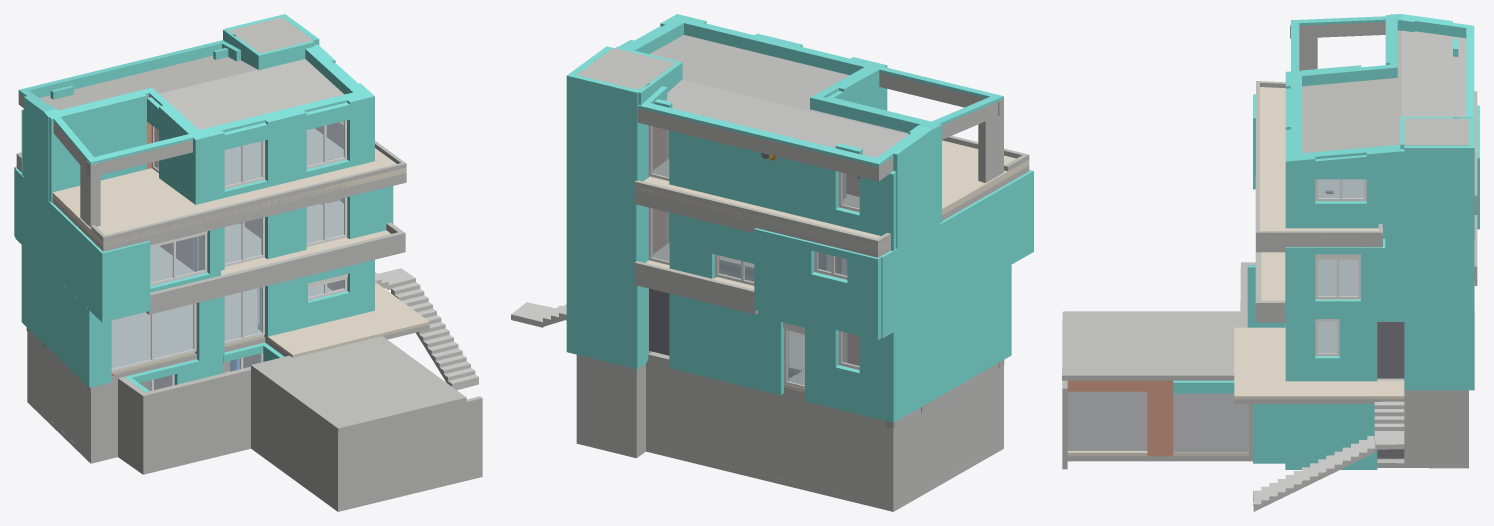
Rendered from HouseEM_AR_ALL.glb.
3 renders of one model, left to right at view 1: azimuth 30°, elevation 25°; view 2: azimuth 150°, elevation 25°; view 3: azimuth 270°, elevation 25°, orthographic. The views are drawn at different scales.
Visible parts, largest first — view 1: BS-RS01, RF-SLAB, BS-RCW01, AT-FF01, GF-FF01, BS-RCW04, RF-PARAPET-CAP02, F1-ET06, BS-RCW02, AT-PP01, F1-PP01, GF-ET12 (+43 smaller); view 2: RF-SLAB, BS-RCW05, F1-ET06, GF-ET12, AT-ET11, GF-ET08, RF-PARAPET-CAP02, AT-ET03, BS-COL07, AT-PP02, GF-ET02, F1-ET14 (+42 smaller); view 3: RF-SLAB, BS-RS01, AT-ET02, GF-FF01, RF-PARAPET-CAP02, GF-ET01, BS-ET01, AT-FF01, BS-GD02, BS-COL07, F1-ET13, BS-GD01 (+37 smaller).
Boxes of the visible parts, bbox=[...] form: BS-RS01: bbox=[251, 336, 466, 433]; RF-SLAB: bbox=[18, 55, 344, 176]; BS-RCW01: bbox=[335, 396, 482, 506]; AT-FF01: bbox=[52, 128, 406, 246]; GF-FF01: bbox=[111, 282, 429, 374]; BS-RCW04: bbox=[146, 366, 250, 468]; RF-PARAPET-CAP02: bbox=[18, 40, 374, 164]; F1-ET06: bbox=[15, 169, 105, 322]; BS-RCW02: bbox=[251, 370, 335, 504]; AT-PP01: bbox=[91, 141, 406, 251]; F1-PP01: bbox=[146, 222, 405, 314]; GF-ET12: bbox=[23, 247, 87, 385]; RF-SLAB: bbox=[637, 35, 1003, 181]; BS-RCW05: bbox=[648, 368, 810, 485]; F1-ET06: bbox=[880, 170, 1033, 337]; GF-ET12: bbox=[897, 267, 1007, 420]; AT-ET11: bbox=[669, 130, 838, 224]; GF-ET08: bbox=[669, 293, 783, 395]; RF-PARAPET-CAP02: bbox=[618, 14, 1003, 166]; AT-ET03: bbox=[572, 74, 635, 196]; BS-COL07: bbox=[576, 354, 648, 452]; AT-PP02: bbox=[634, 180, 890, 257]; GF-ET02: bbox=[572, 262, 633, 368]; F1-ET14: bbox=[566, 180, 632, 276]; RF-SLAB: bbox=[1299, 30, 1466, 153]; BS-RS01: bbox=[1062, 311, 1240, 380]; AT-ET02: bbox=[1404, 146, 1474, 239]; GF-FF01: bbox=[1234, 322, 1404, 399]; RF-PARAPET-CAP02: bbox=[1285, 14, 1474, 163]; GF-ET01: bbox=[1404, 309, 1474, 390]; BS-ET01: bbox=[1285, 404, 1377, 469]; AT-FF01: bbox=[1256, 87, 1382, 241]; BS-GD02: bbox=[1067, 391, 1147, 450]; BS-COL07: bbox=[1404, 390, 1468, 463]; F1-ET13: bbox=[1405, 240, 1468, 310]; BS-GD01: bbox=[1173, 393, 1248, 452].
Size of the model in its own units: 16.54 by 13.2 by 15.47.
